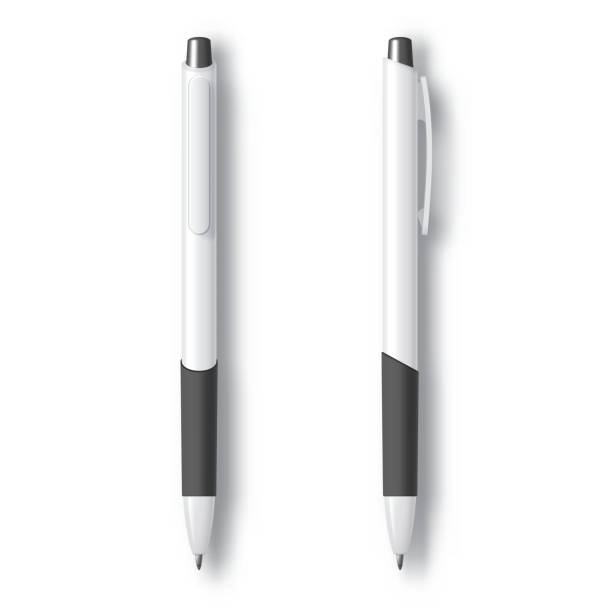pen: (157, 24, 291, 582), (352, 12, 477, 587)
